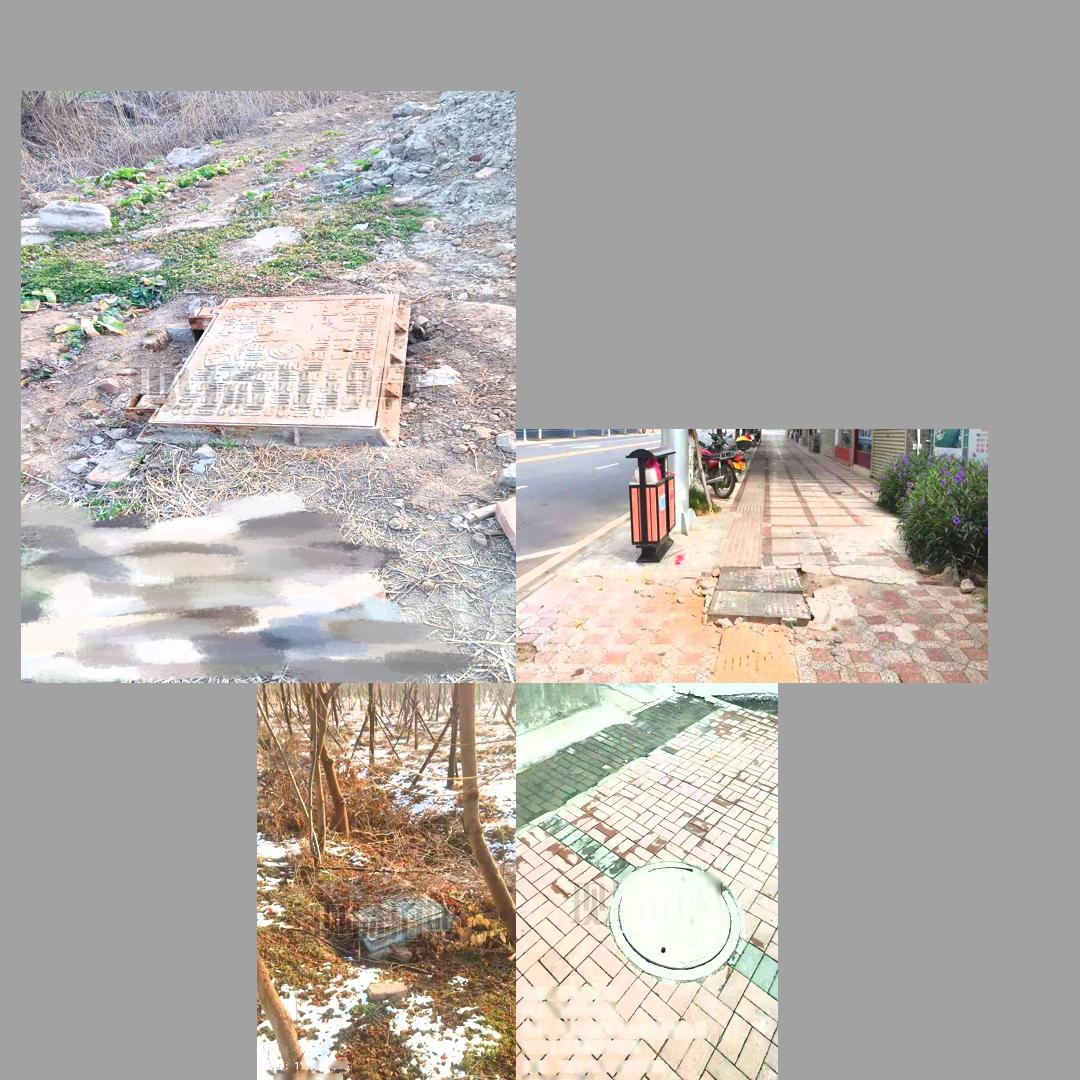circle: (125, 289, 420, 450), (607, 861, 742, 984), (676, 551, 832, 654), (320, 867, 454, 955)
